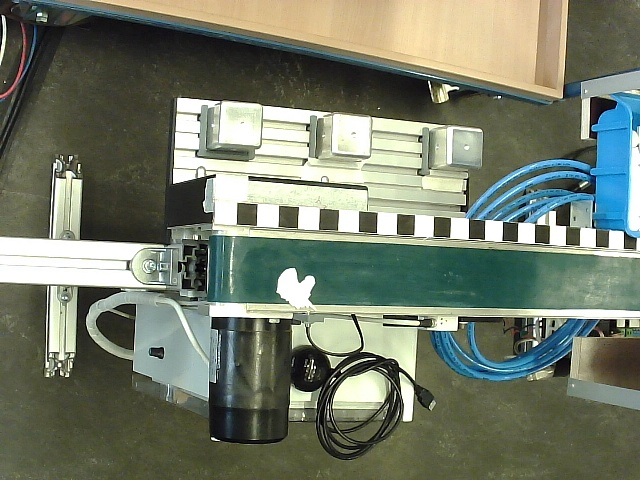unicorn: (274, 266, 318, 313)
